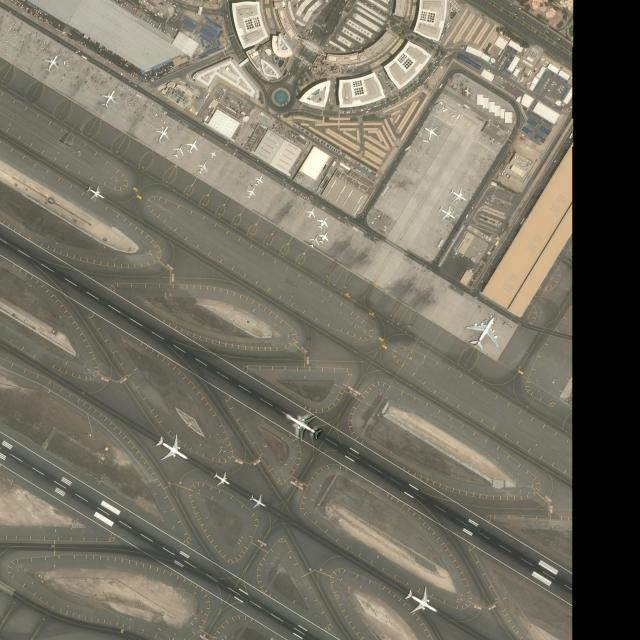aircraft: (464, 313, 499, 353), (283, 412, 323, 442), (402, 588, 438, 618), (154, 433, 188, 461), (42, 54, 61, 74), (211, 470, 230, 489), (423, 123, 441, 142), (85, 184, 103, 201), (184, 138, 202, 154), (438, 205, 456, 221), (248, 493, 266, 509), (154, 123, 168, 143), (102, 89, 118, 105), (449, 186, 466, 201), (170, 143, 183, 159), (194, 160, 208, 174), (316, 216, 330, 230), (308, 234, 320, 248), (245, 187, 257, 200), (305, 207, 317, 219), (318, 233, 332, 242), (253, 176, 262, 186)
